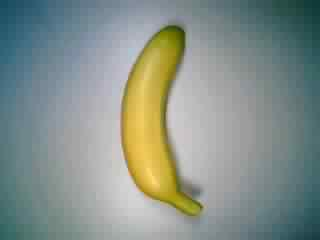banana: (115, 21, 210, 221)
